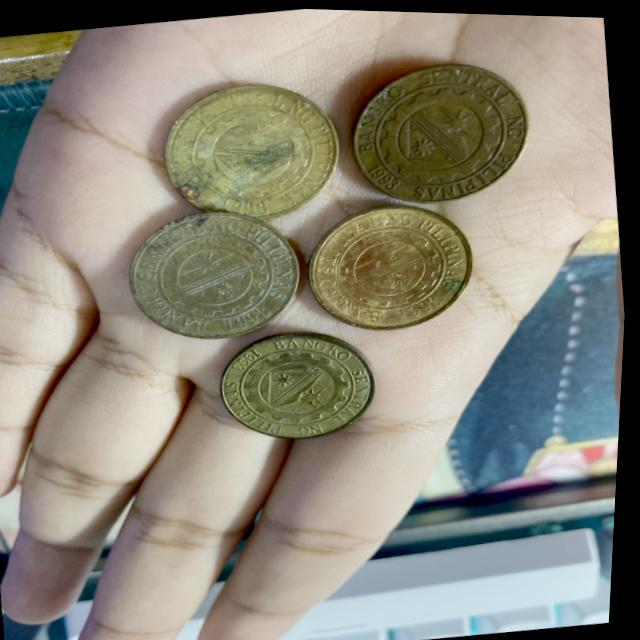25Cent_Old_Back: (345, 46, 541, 219), (161, 67, 347, 226), (125, 213, 304, 344), (210, 324, 388, 449), (310, 202, 480, 331)
